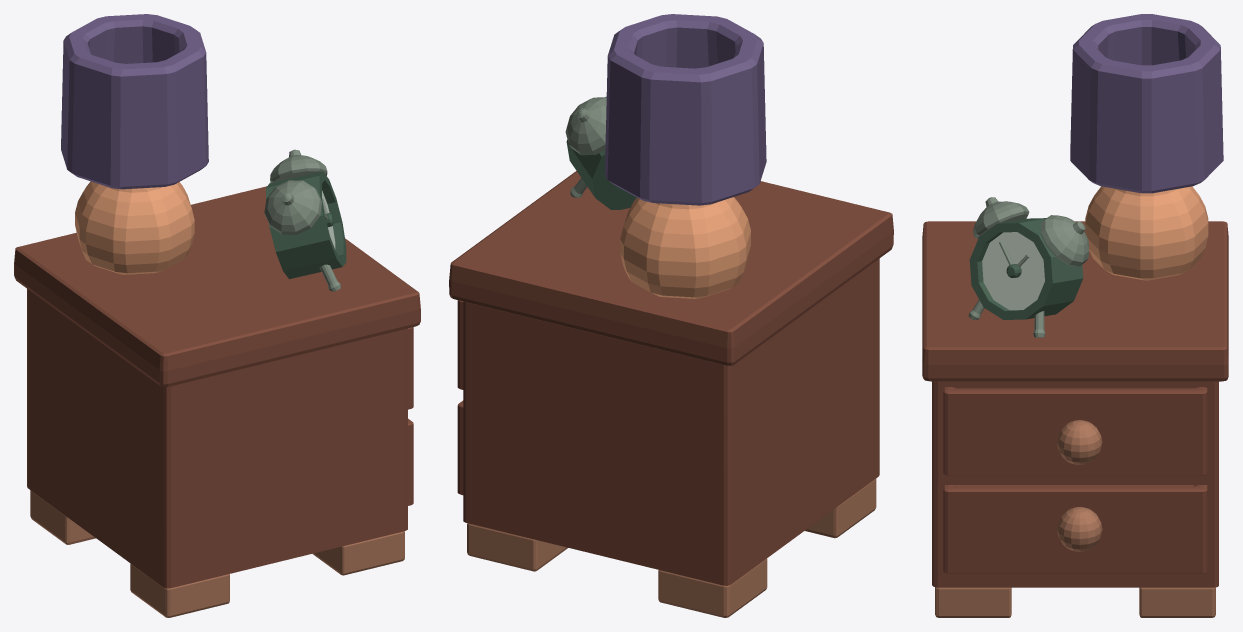
File: Bedroom_Bedstand2.fbx
3 renders of one model, left to right at view 1: azimuth 30°, elevation 25°; view 2: azimuth 150°, elevation 25°; view 3: azimuth 270°, elevation 25°, orthographic. The views are drawn at different scales.
Visible parts, largest first — view 1: Bedroom_Bedstand2.002, Bedroom_Bedstand2.005, Bedroom_Bedstand2.004, Bedroom_Bedstand2.001, Bedroom_Bedstand2.006, Bedroom_Bedstand2.003; view 2: Bedroom_Bedstand2.002, Bedroom_Bedstand2.005, Bedroom_Bedstand2.004, Bedroom_Bedstand2.001, Bedroom_Bedstand2.003, Bedroom_Bedstand2.006; view 3: Bedroom_Bedstand2.002, Bedroom_Bedstand2.005, Bedroom_Bedstand2.004, Bedroom_Bedstand2.001, Bedroom_Bedstand2.006, Bedroom_Bedstand2.003, Bedroom_Bedstand2.
Boxes of the visible parts, x1,y1,x2,y2 form: Bedroom_Bedstand2.002: (14, 186, 420, 588); Bedroom_Bedstand2.005: (61, 14, 208, 189); Bedroom_Bedstand2.004: (75, 181, 194, 274); Bedroom_Bedstand2.001: (30, 490, 404, 617); Bedroom_Bedstand2.006: (266, 171, 346, 279); Bedroom_Bedstand2.003: (264, 149, 346, 291); Bedroom_Bedstand2.002: (449, 171, 893, 585); Bedroom_Bedstand2.005: (605, 14, 766, 205); Bedroom_Bedstand2.004: (620, 197, 750, 298); Bedroom_Bedstand2.001: (467, 478, 876, 617); Bedroom_Bedstand2.003: (565, 97, 606, 197); Bedroom_Bedstand2.006: (566, 96, 636, 209); Bedroom_Bedstand2.002: (922, 221, 1228, 587); Bedroom_Bedstand2.005: (1070, 14, 1223, 193); Bedroom_Bedstand2.004: (1085, 186, 1208, 280); Bedroom_Bedstand2.001: (935, 420, 1215, 617); Bedroom_Bedstand2.006: (969, 218, 1083, 319); Bedroom_Bedstand2.003: (968, 197, 1088, 337); Bedroom_Bedstand2: (982, 232, 1044, 310).
Size of the model in its own units: 55.55 by 98.72 by 63.35.
